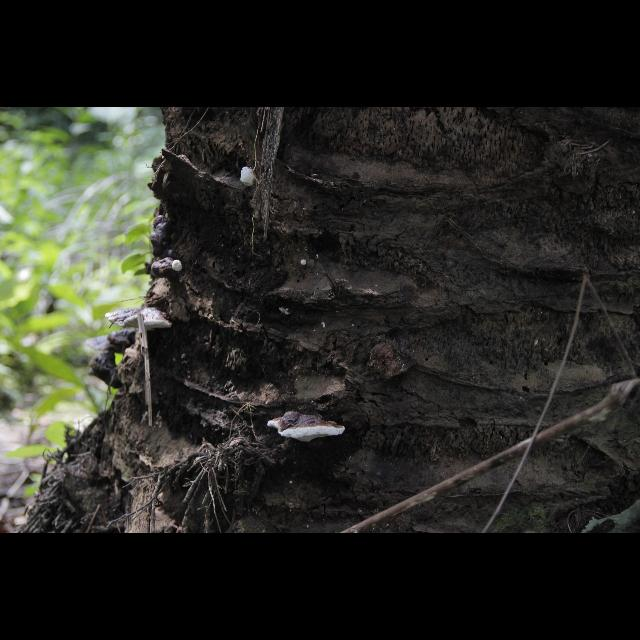ganoderma: (268, 412, 346, 444), (105, 307, 173, 331), (150, 217, 174, 280), (83, 332, 137, 358)
primordium: (241, 167, 258, 187), (172, 261, 184, 273), (301, 260, 307, 266)
